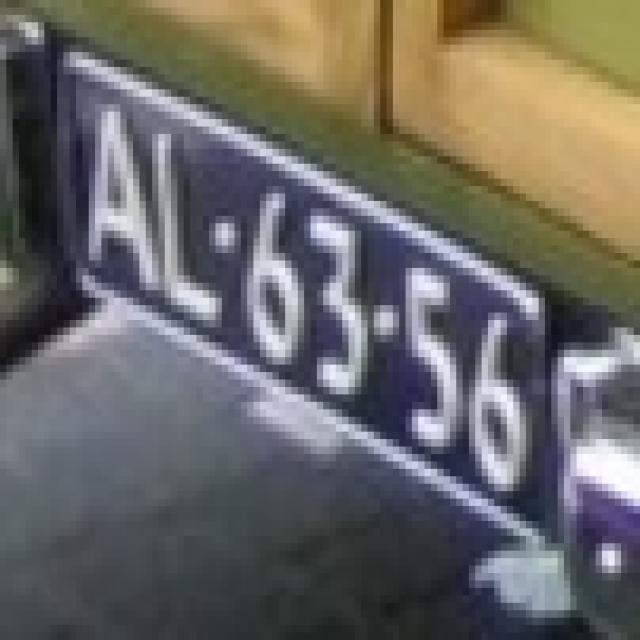licenseplate: (40, 16, 567, 566)
